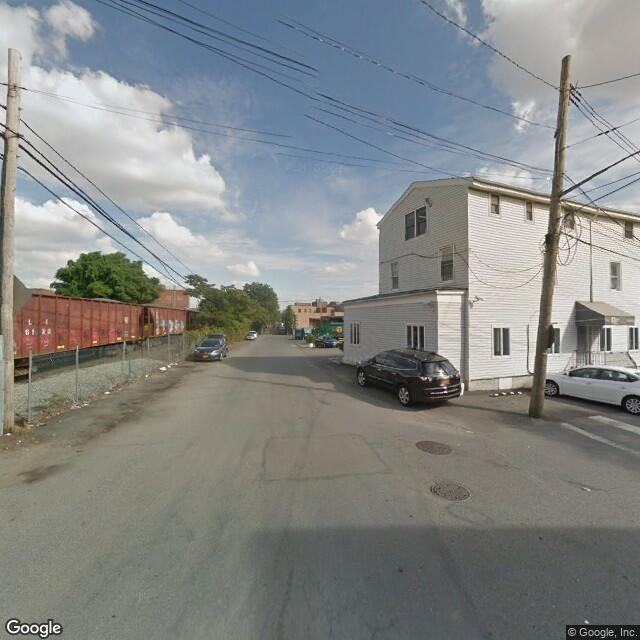litter: (582, 616, 594, 628), (3, 430, 18, 438), (26, 420, 43, 426), (71, 403, 88, 408), (583, 487, 595, 494), (167, 361, 182, 366), (102, 391, 113, 396), (157, 368, 167, 373), (143, 374, 149, 380)
